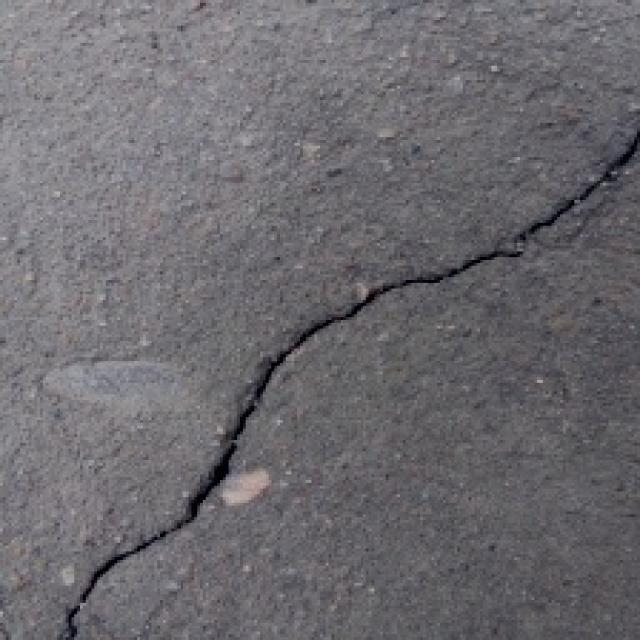crack: (48, 90, 640, 640)
